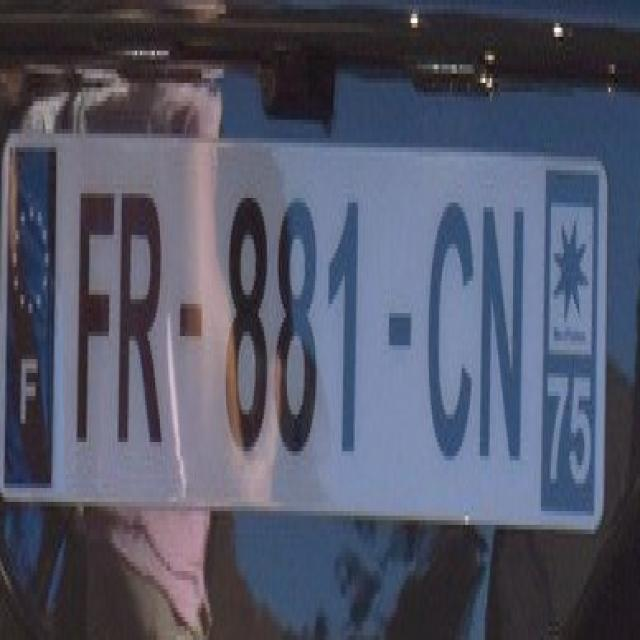EU: (3, 143, 606, 530)
France: (2, 138, 58, 496)
